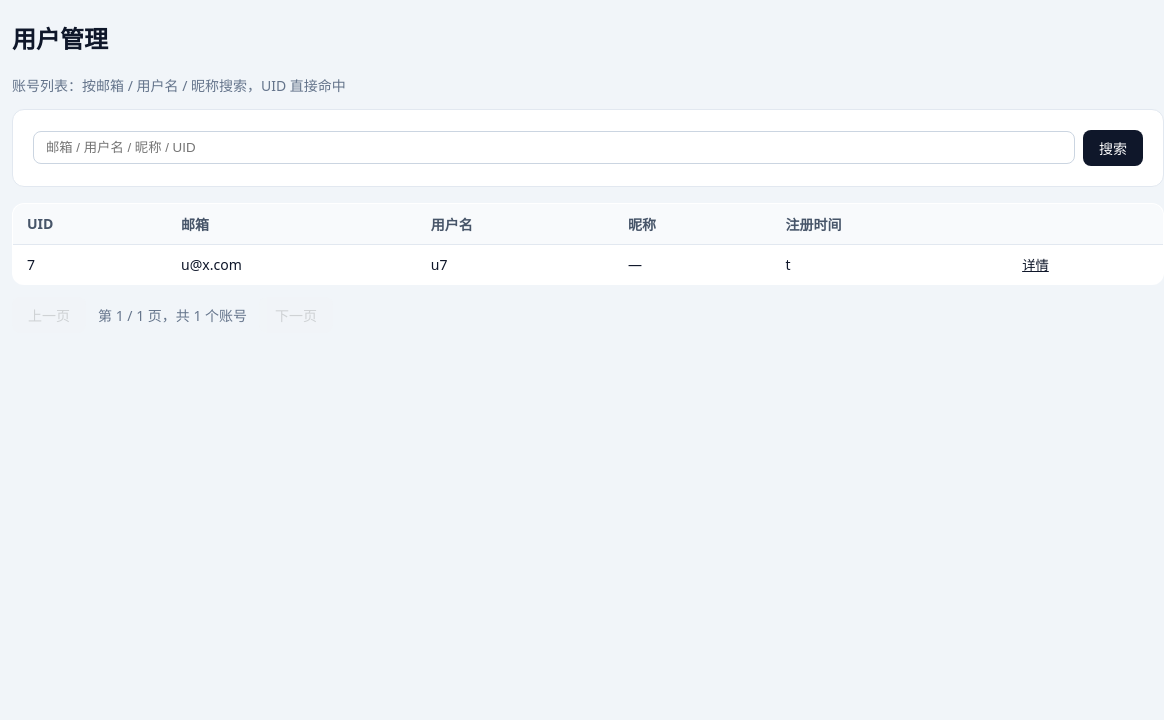
Users.vue › 重新搜索清掉上一轮的详情卡片
The width and height of the screenshot is (1164, 720).
Click the button "详情" at [1035, 264], box [1022,255,1049,274]
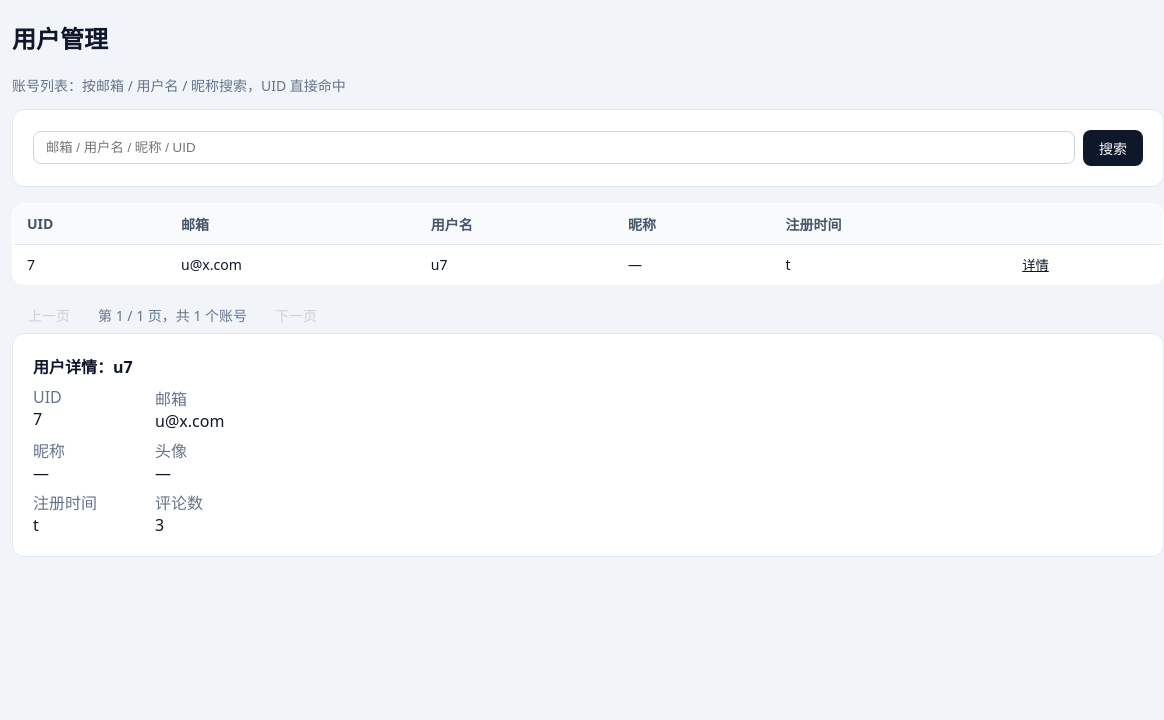
expect the text "评论数" is shown: met, box [155,492,203,514]
Click the button "搜索" at [1113, 148], box [1083,130,1143,166]
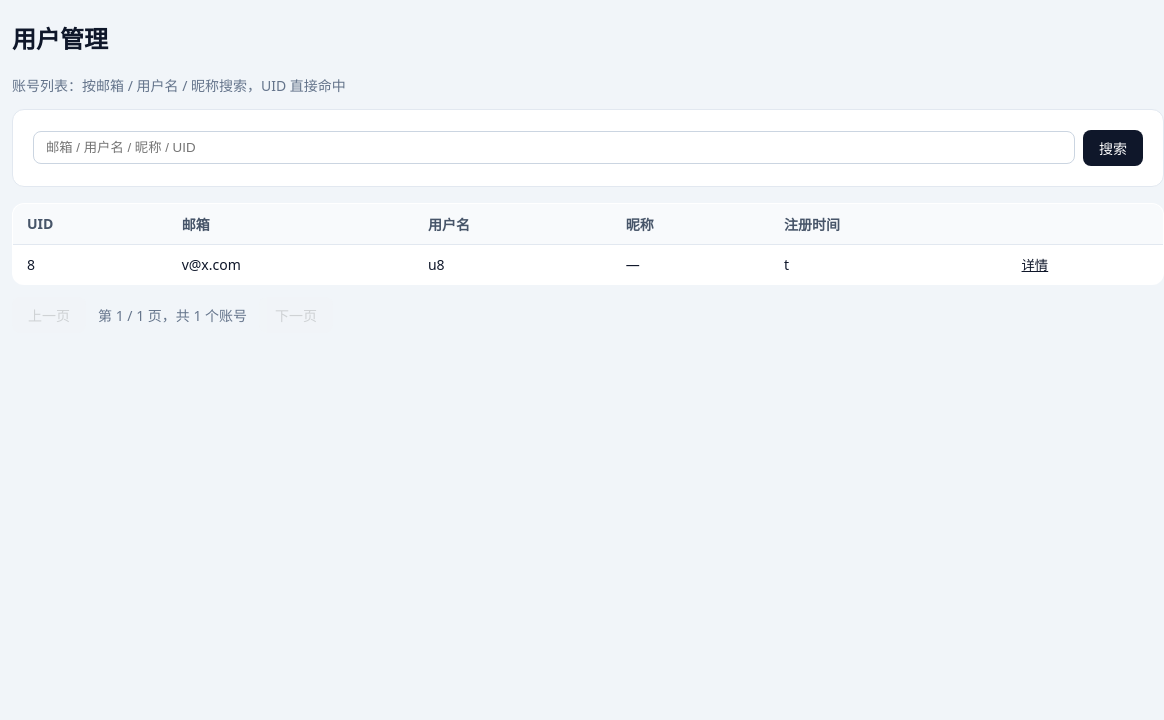
expect the text "评论数" is gone: met
expect the text "v@x.com" is shown: met, box [168,244,414,284]
